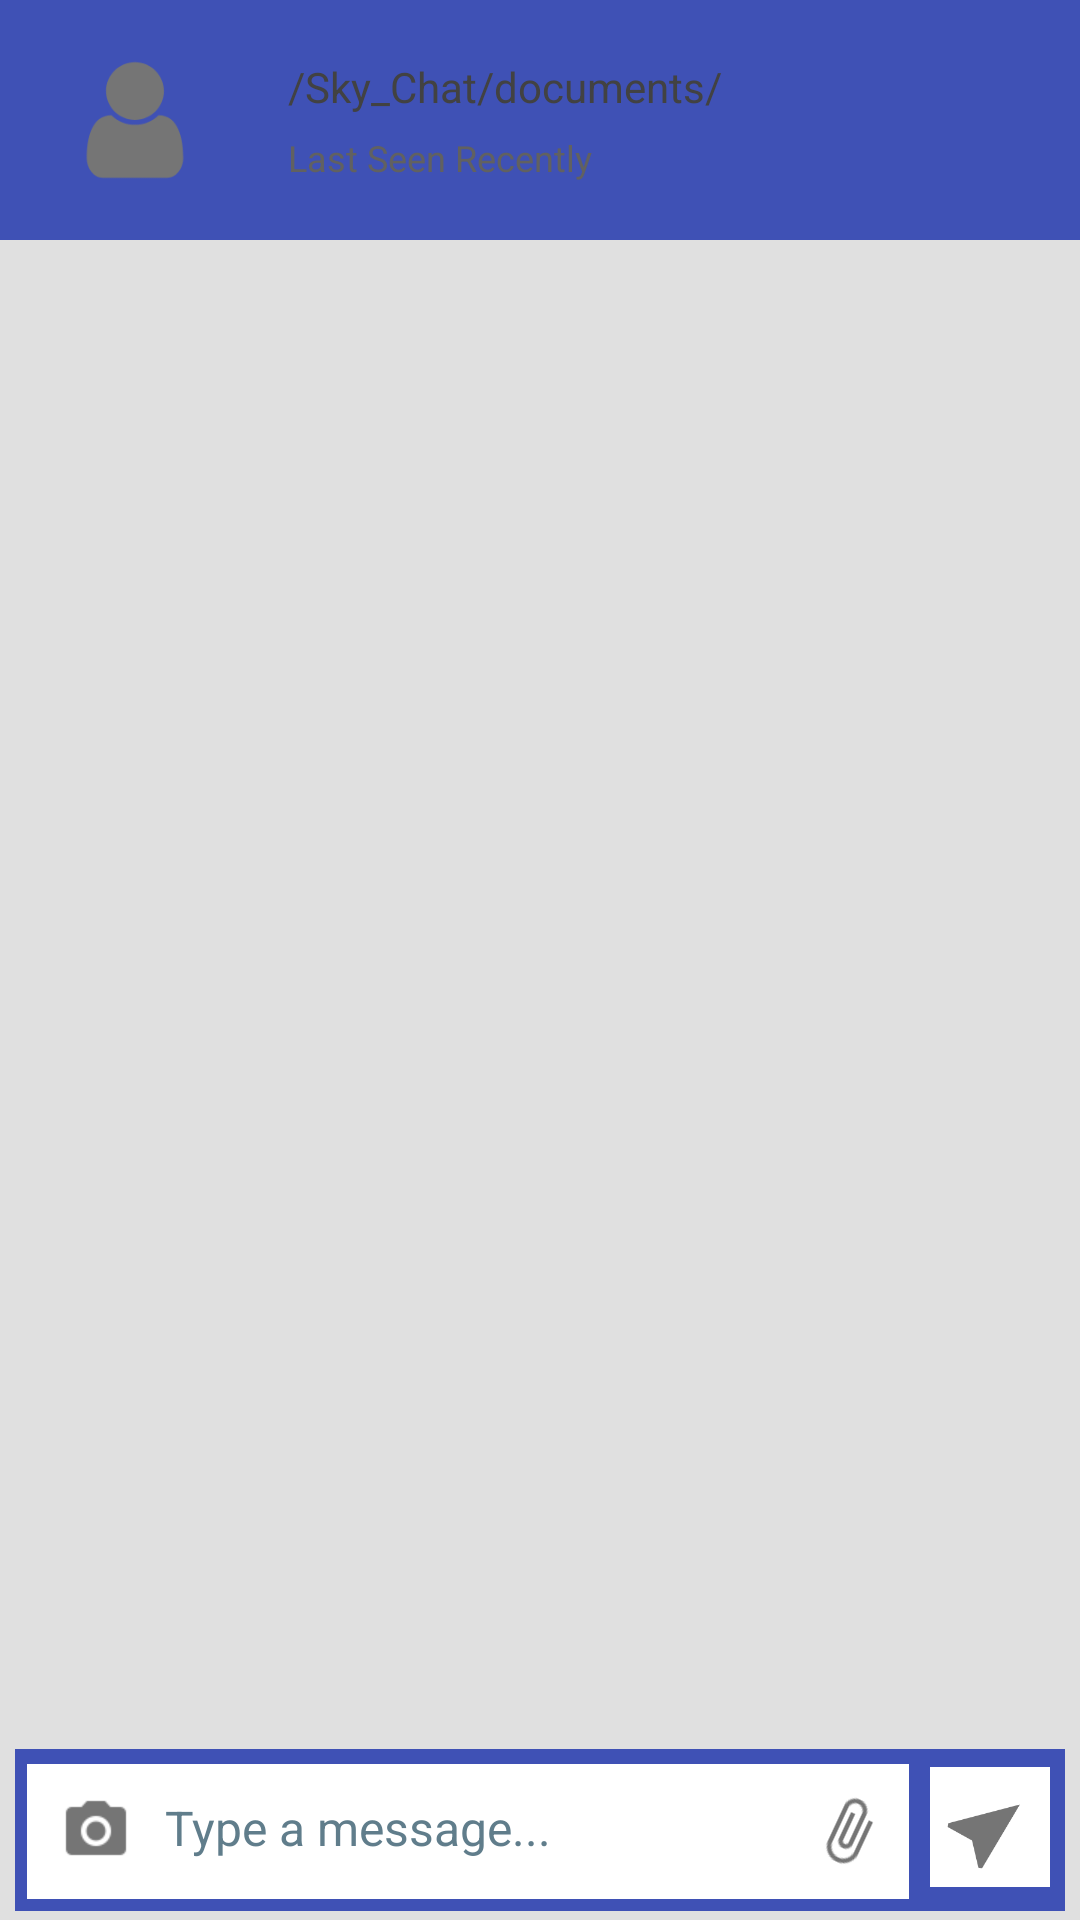

Icon bounding boxes for this 1080×1920 phone screenshot, format (x1, y1, x2, y2):
camera: (66, 1801, 126, 1855)
user: (87, 62, 183, 178)
